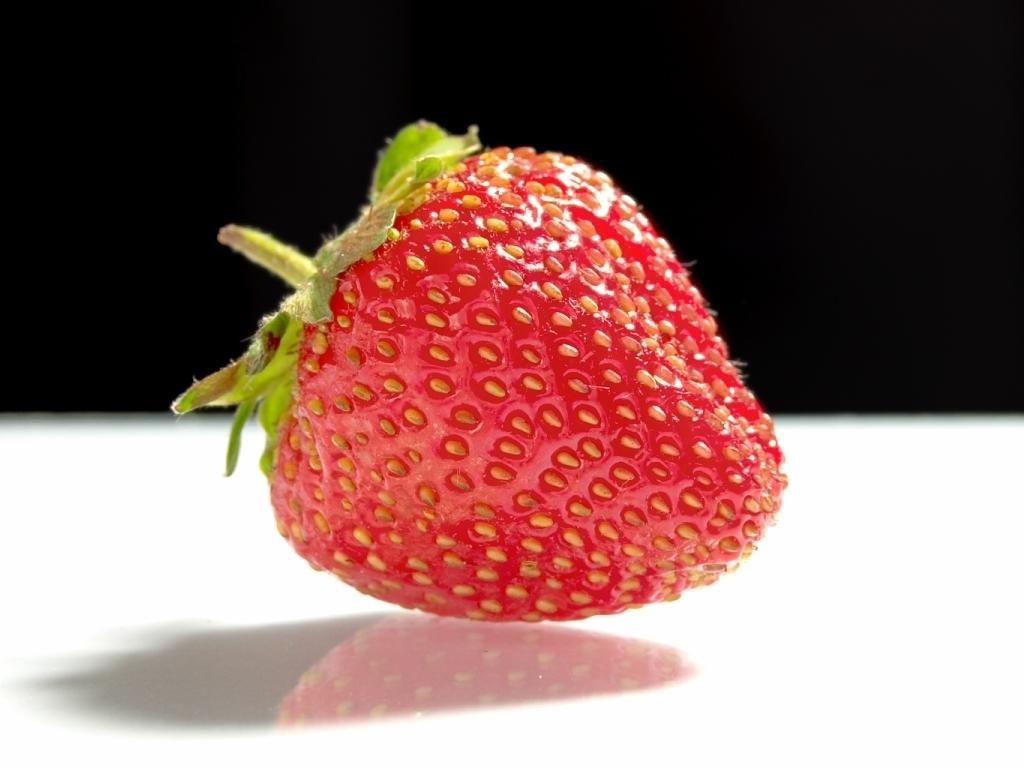strawberry: (180, 114, 838, 643)
